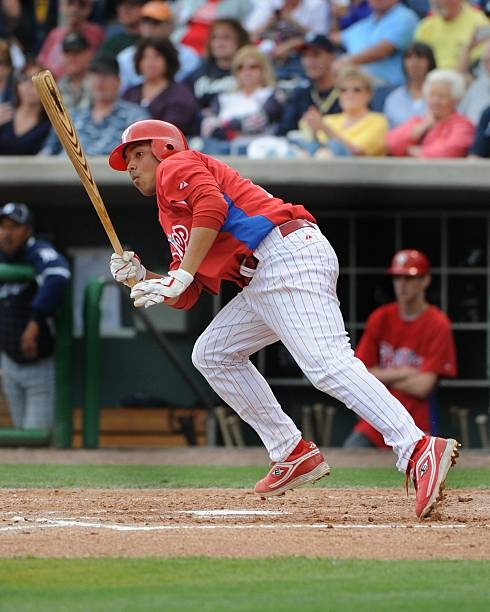bita: (30, 69, 145, 285)
